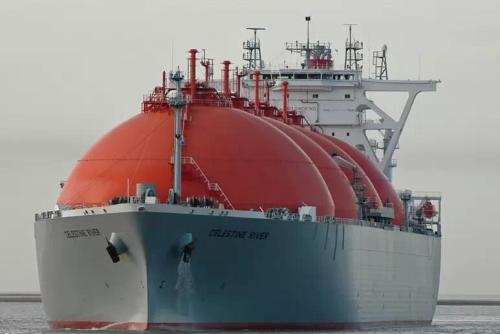Cargoship: (32, 12, 457, 327)
